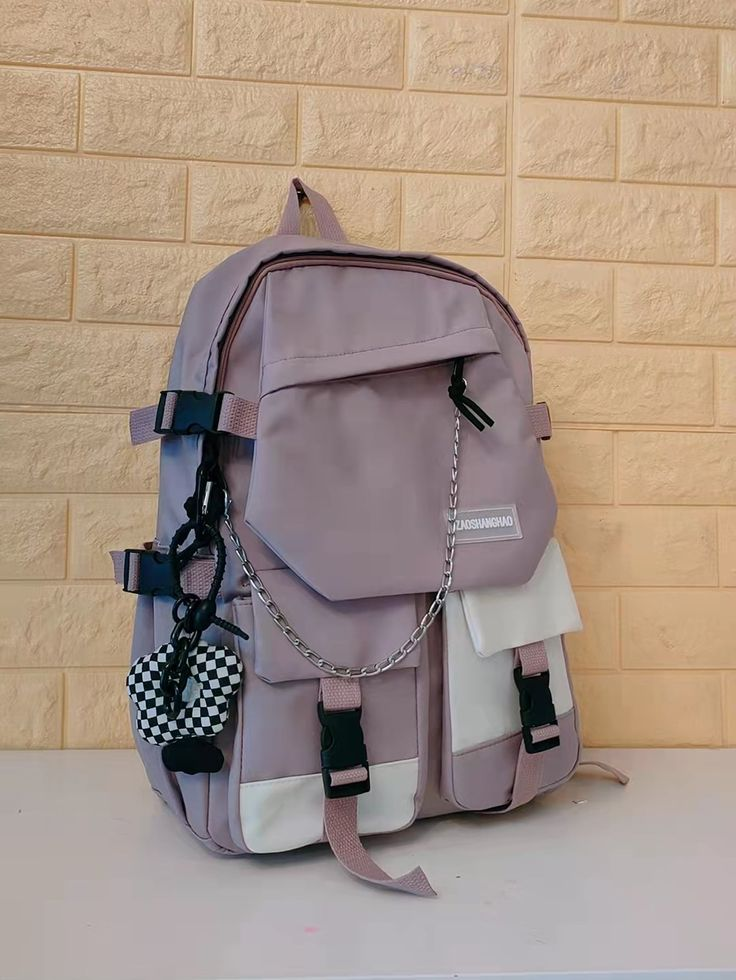nylon: (128, 231, 582, 853)
